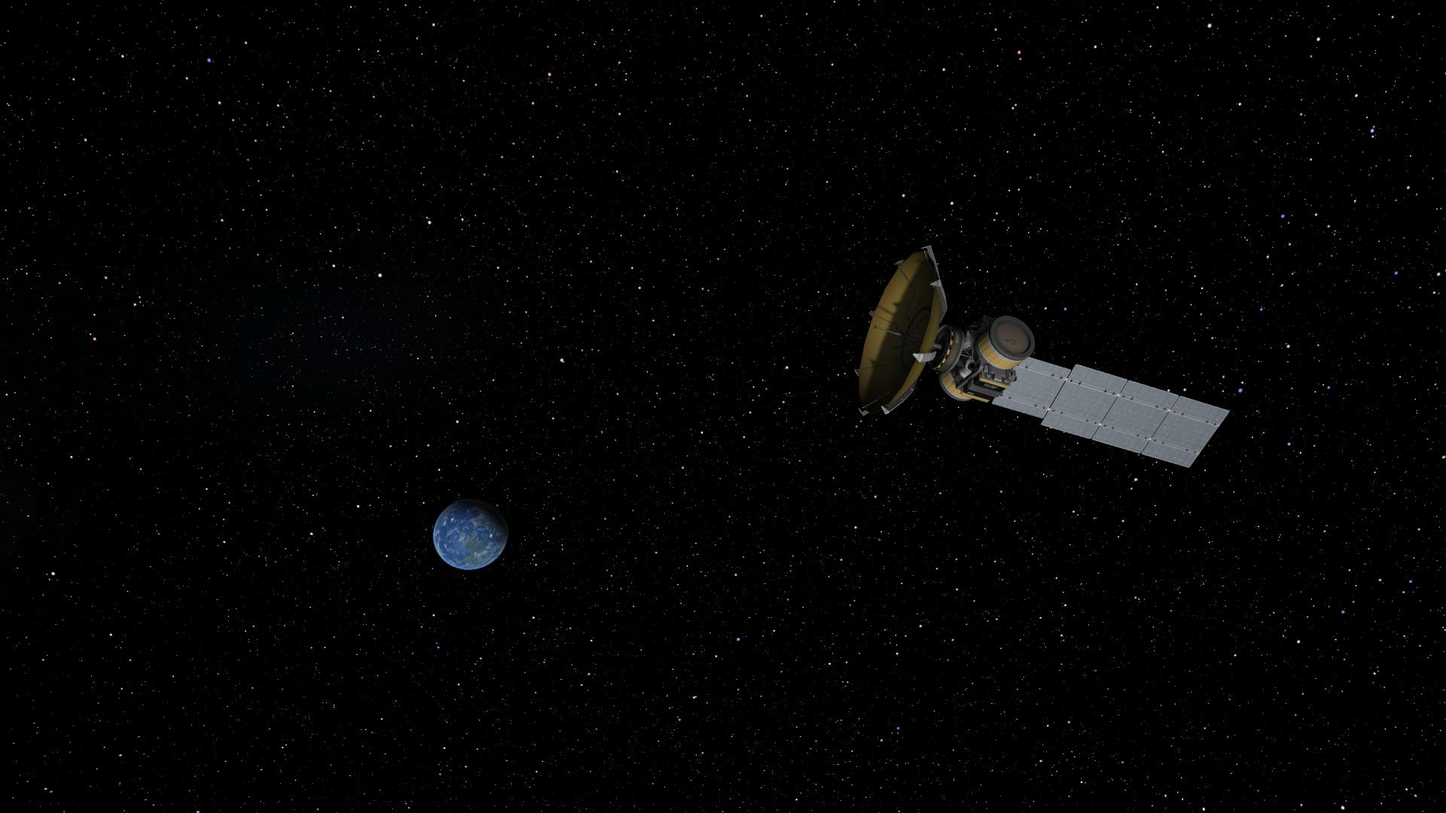antenna: (847, 238, 945, 423)
body: (938, 318, 1033, 408)
solar: (982, 355, 1231, 470)
